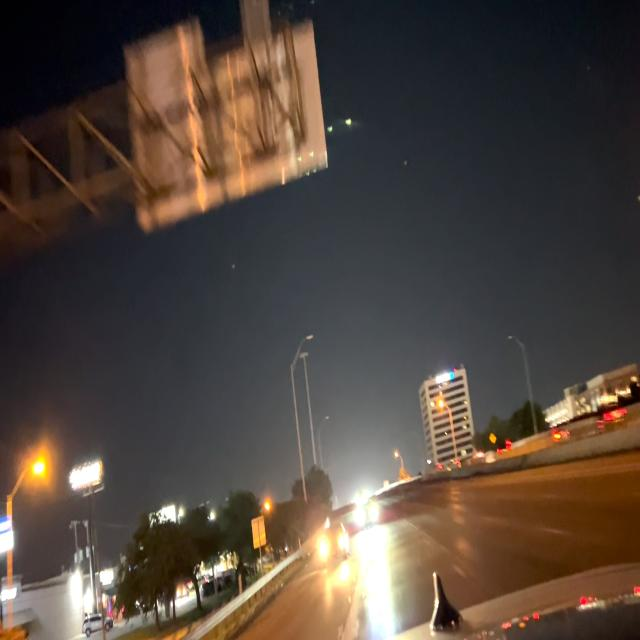back-of-sign: (126, 24, 326, 236), (127, 27, 205, 89), (239, 0, 271, 43), (251, 516, 267, 549)
